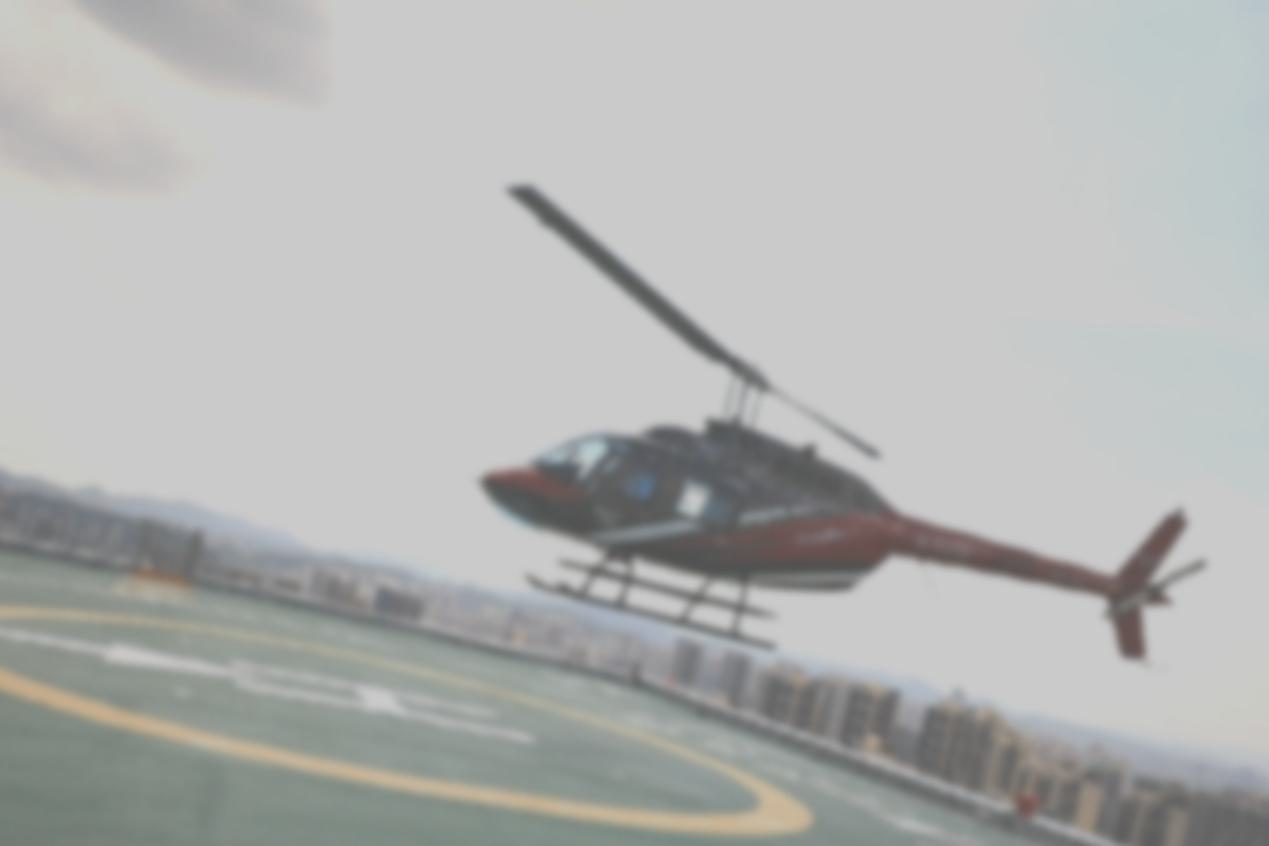Apron: (1, 536, 829, 839)
